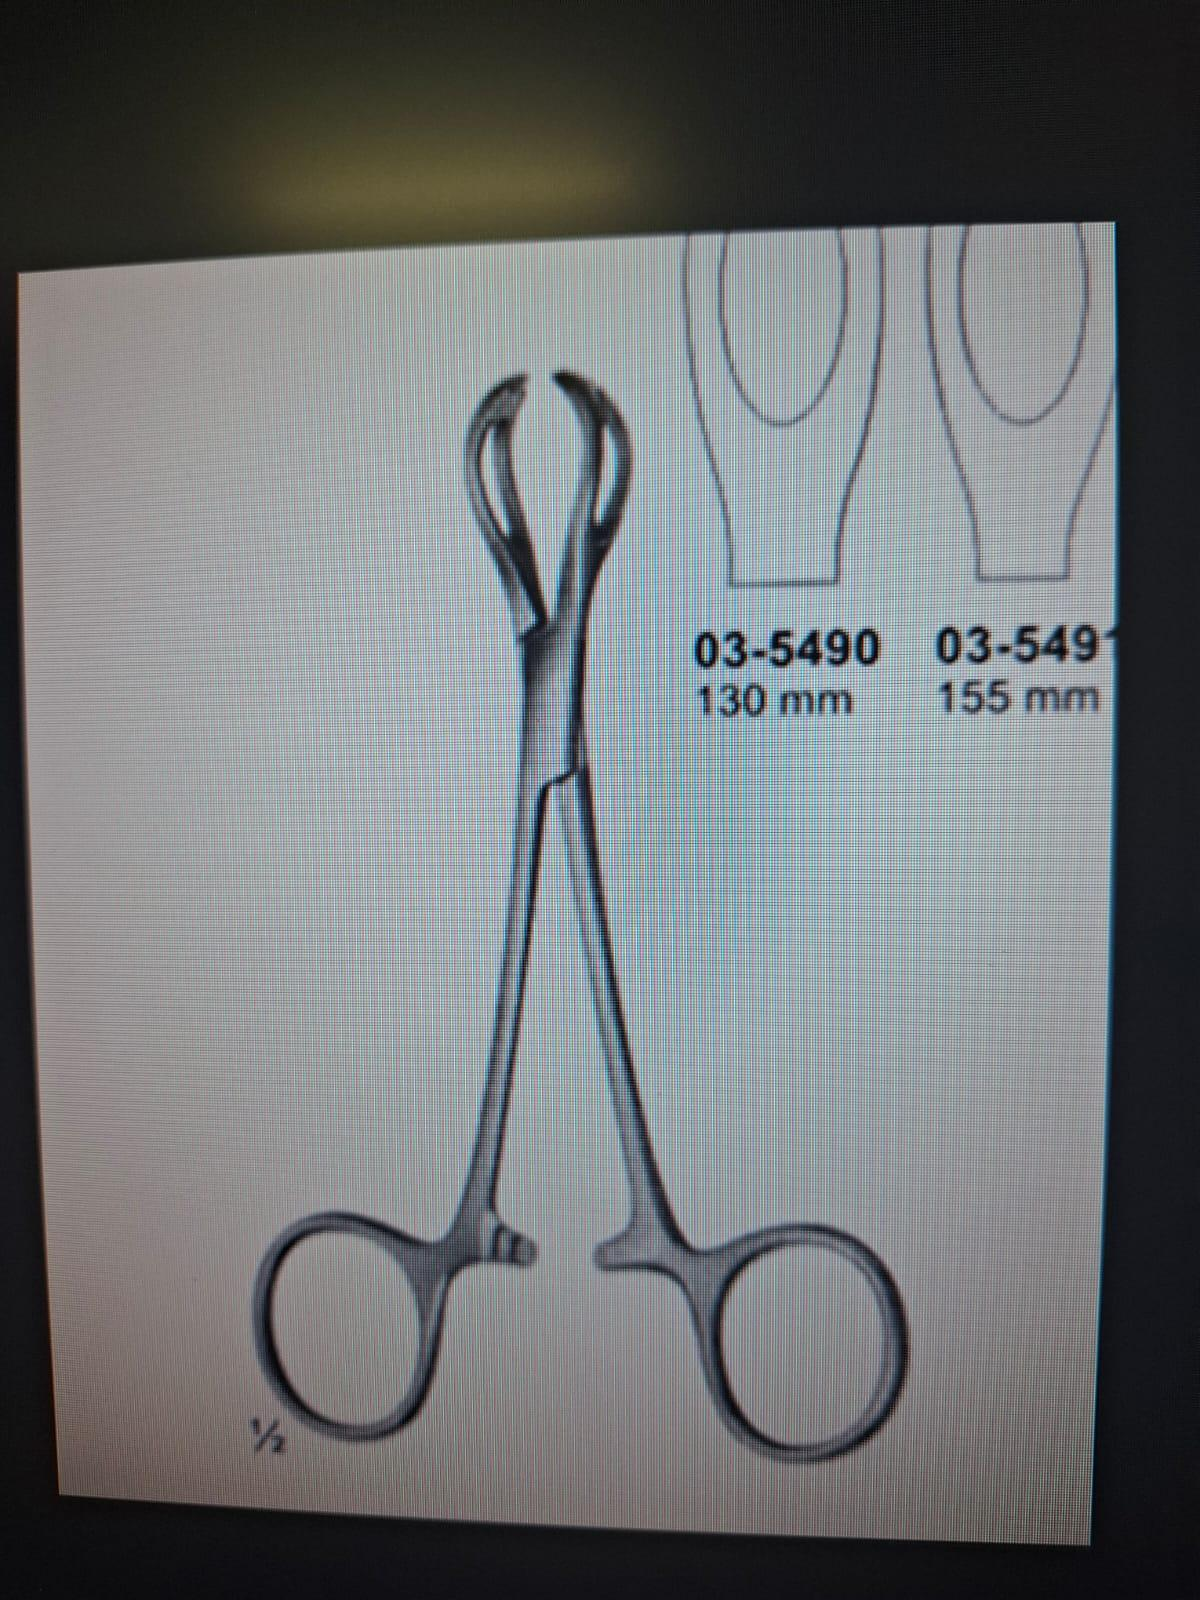Lane Tissue Forceps: (255, 370, 908, 1468)
